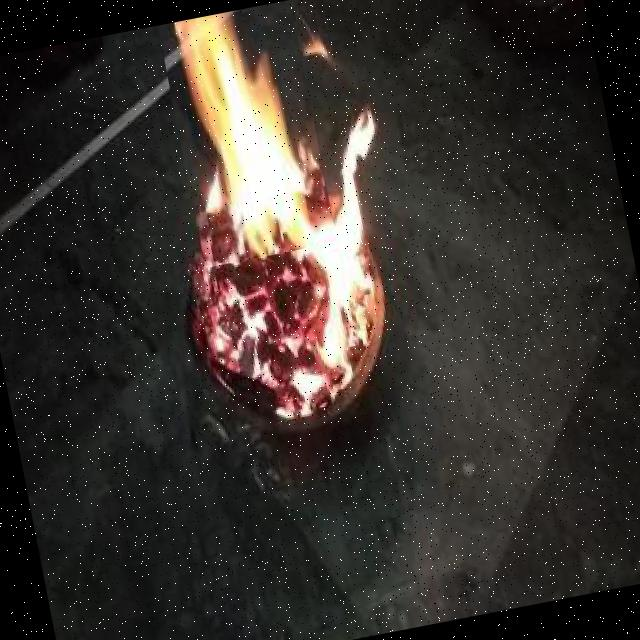fire: (158, 0, 338, 268)
